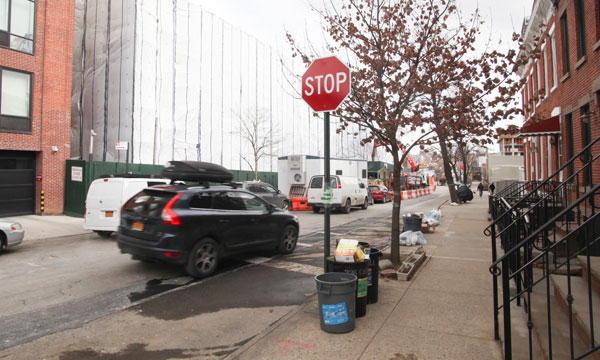stopsign: (301, 55, 352, 112)
